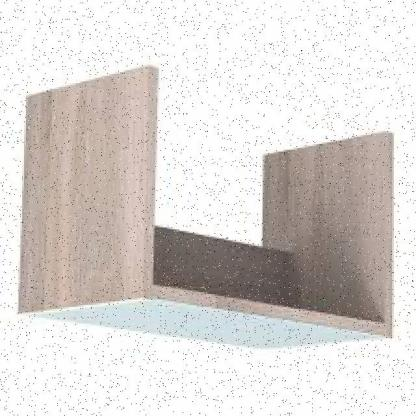Table: (18, 68, 404, 354)
